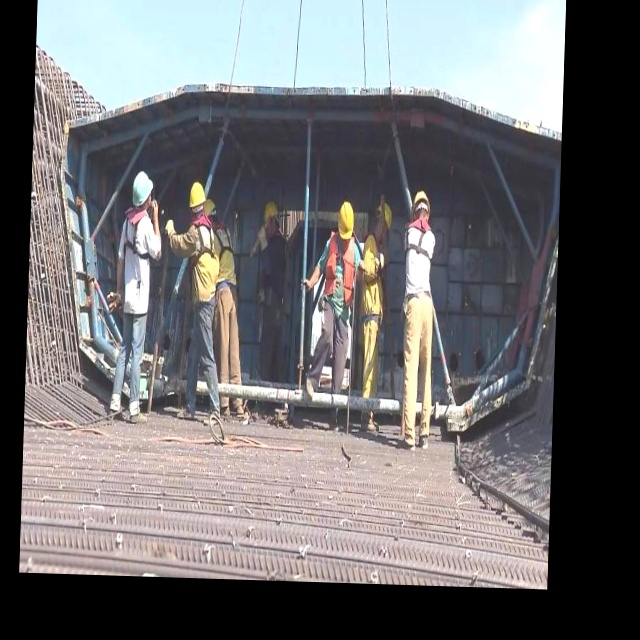Con_Casco: (337, 198, 355, 242), (188, 180, 206, 218)
